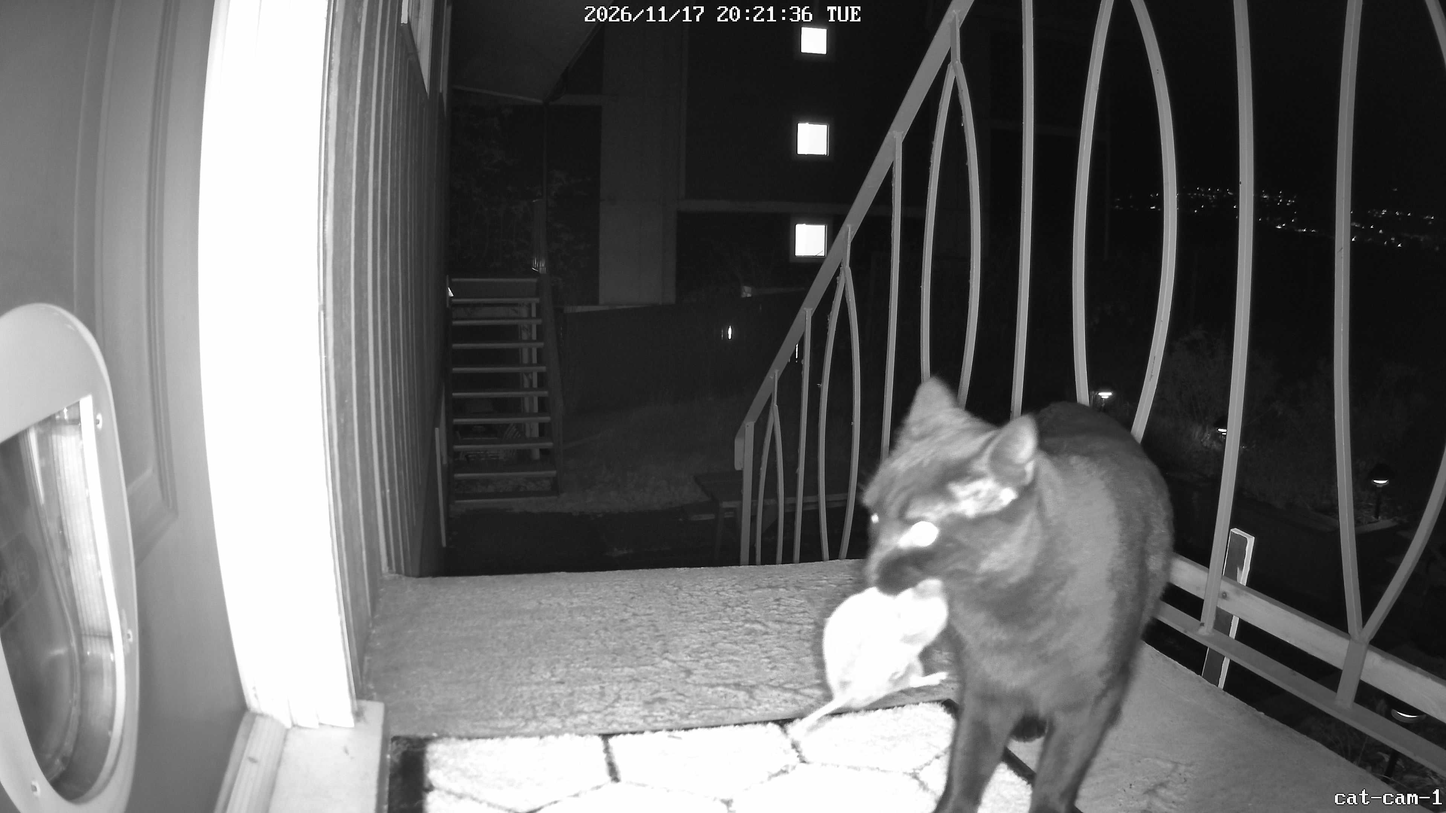prey: (813, 585, 958, 726)
